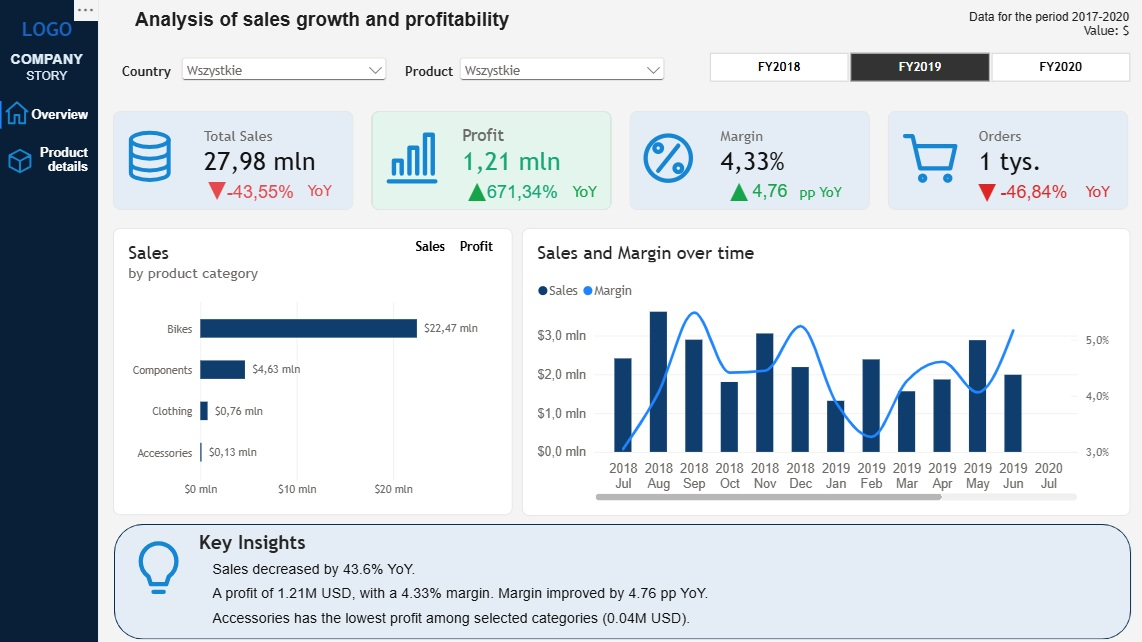

The dashboard page shown, as its layout file describes it:
{"tool":"powerbi","page":{"name":"Overview","canvas":[1280,720],"ordinal":0},"visuals":[{"type":"slicer","fields":{"Values":["Date.Year"]},"box":[772.9,60,507.1,35.7],"z":0},{"type":"lineStackedColumnComboChart","title":"Sales and Margin over time","fields":{"Category":["Date.Month"],"Y":["Sum(Sales.Sales)"],"Y2":["Sales.Profit Margin"]},"box":[585.7,257.1,675.7,320],"z":1000},{"type":"barChart","title":"Sales","fields":{"Category":["Product.Category"],"Y":["Sum(Obrót.Obrót)"]},"box":[131.4,257.1,444.3,318.6],"z":2000},{"type":"shape","box":[0,0,115,720],"z":3000},{"type":"textbox","box":[0,22.9,115.7,32.9],"z":4000},{"type":"textbox","box":[0,60,115,18.8],"z":5000},{"type":"textbox","box":[0,78.8,115,18.8],"z":6000},{"type":"cardVisual","title":"Total Sales","fields":{"Data":["Sales.Total Sales","Sales.Profit","Sales.Margin","Sales.Order"]},"box":[131.4,127.1,1130,110],"z":7000},{"type":"textbox","box":[140.9,73,60,18.3],"z":8000},{"type":"slicer","fields":{"Values":["Region.Country"]},"box":[202.5,61.9,238.5,38.5],"z":9000},{"type":"textbox","box":[455.2,73,60.9,18.3],"z":10000},{"type":"slicer","fields":{"Values":["Product.Category"]},"box":[511.2,61.9,238.3,34.4],"z":11000},{"type":"actionButton","title":"widok 1","box":[455.5,258.2,56.1,38.9],"z":13000},{"type":"actionButton","title":"widok 2","box":[510.9,258.2,47.5,38.8],"z":14000},{"type":"textbox","box":[155,13.8,512.5,25],"z":15000},{"type":"textbox","box":[1063.8,13.8,196.9,41.9],"z":16000},{"type":"shape","box":[131.7,585,1130,128.3],"z":17000},{"type":"textbox","box":[226.7,593.3,998.9,113.3],"z":18000},{"type":"image","box":[134.3,145.7,74.4,63.3],"z":19000},{"type":"image","box":[12.5,162.5,30.6,40],"z":20000},{"type":"image","box":[9.4,111.2,30.6,35],"z":21000},{"type":"image","box":[705.1,146,85.6,66.7],"z":22000},{"type":"image","box":[148,594,68,82],"z":23000},{"type":"image","box":[1005.7,142.9,66.7,71.7],"z":24000},{"type":"cardVisual","fields":{"Data":["Sales.Sales YoY Growth"]},"box":[257.5,195.6,98.8,40.6],"z":25000},{"type":"cardVisual","fields":{"Data":["Sales.YoY Label"]},"box":[330.6,195.6,66.9,40.6],"z":26000},{"type":"cardVisual","fields":{"Data":["Sales.Profit YoY Growth"]},"box":[546.2,195.6,97.5,41.7],"z":27000},{"type":"cardVisual","fields":{"Data":["Sales.YoY Label"]},"box":[625,196.2,60,40],"z":28000},{"type":"cardVisual","fields":{"Data":["Sales.Profit Trend Icon"]},"box":[505.6,196.2,57.5,41.2],"z":29000},{"type":"cardVisual","fields":{"Data":["Sales.Sales Trend Icon"]},"box":[216.2,195,57.5,41.2],"z":30000},{"type":"image","box":[419.4,144.6,88.9,68.9],"z":31000},{"type":"cardVisual","fields":{"Data":["Sales.Margin YoY Change"]},"box":[825,195.6,105.6,40.6],"z":32000},{"type":"cardVisual","fields":{"Data":["Sales.Margin Trend Icon"]},"box":[796.2,196.2,57.5,41.2],"z":33000},{"type":"cardVisual","fields":{"Data":["Sales.YoY Label pp"]},"box":[878.1,196.2,93.8,40],"z":34000},{"type":"cardVisual","fields":{"Data":["Sales.Order YoY Growth"]},"box":[1101.2,196.2,160,40],"z":35000},{"type":"cardVisual","fields":{"Data":["Sales.YoY Label"]},"box":[1195.6,196.2,60.6,40],"z":36000},{"type":"cardVisual","fields":{"Data":["Sales.Order Trend Icon"]},"box":[1072.5,200,57.5,37.5],"z":37000},{"type":"cardVisual","fields":{"Data":["Sales.Insight Sales"]},"box":[225.6,624.4,1030.9,24.5],"z":38000},{"type":"cardVisual","fields":{"Data":["Sales.Insight Profitability"]},"box":[225.6,648.9,1030,27.8],"z":39000},{"type":"cardVisual","fields":{"Data":["Sales.Insight Category"]},"box":[225.6,676.7,1018.9,27.8],"z":40000},{"type":"actionButton","box":[12.5,111.2,102.5,40],"z":41000},{"type":"actionButton","box":[12.8,157.8,101.7,47.8],"z":42000},{"type":"shape","box":[0,115.6,12.5,30.6],"z":43000}]}

Visuals, with their boxes on the page's 1280x720 design canvas (x1, y1, x2, y2). These are canvas units, not pixel positions in the 1142x642 screenshot, which may show the page scaled, cropped or inside an application window:
slicer - Date.Year: [left=773, top=60, right=1280, bottom=96]
"Sales and Margin over time" lineStackedColumnComboChart: [left=586, top=257, right=1261, bottom=577]
"Sales" barChart: [left=131, top=257, right=576, bottom=576]
shape: [left=0, top=0, right=115, bottom=720]
textbox: [left=0, top=23, right=116, bottom=56]
textbox: [left=0, top=60, right=115, bottom=79]
textbox: [left=0, top=79, right=115, bottom=98]
"Total Sales" cardVisual: [left=131, top=127, right=1261, bottom=237]
textbox: [left=141, top=73, right=201, bottom=91]
slicer - Region.Country: [left=202, top=62, right=441, bottom=100]
textbox: [left=455, top=73, right=516, bottom=91]
slicer - Product.Category: [left=511, top=62, right=750, bottom=96]
"widok 1" actionButton: [left=456, top=258, right=512, bottom=297]
"widok 2" actionButton: [left=511, top=258, right=558, bottom=297]
textbox: [left=155, top=14, right=668, bottom=39]
textbox: [left=1064, top=14, right=1261, bottom=56]
shape: [left=132, top=585, right=1262, bottom=713]
textbox: [left=227, top=593, right=1226, bottom=707]
image: [left=134, top=146, right=209, bottom=209]
image: [left=12, top=162, right=43, bottom=202]
image: [left=9, top=111, right=40, bottom=146]
image: [left=705, top=146, right=791, bottom=213]
image: [left=148, top=594, right=216, bottom=676]
image: [left=1006, top=143, right=1072, bottom=215]
cardVisual - Sales.Sales YoY Growth: [left=258, top=196, right=356, bottom=236]
cardVisual - Sales.YoY Label: [left=331, top=196, right=398, bottom=236]
cardVisual - Sales.Profit YoY Growth: [left=546, top=196, right=644, bottom=237]
cardVisual - Sales.YoY Label: [left=625, top=196, right=685, bottom=236]
cardVisual - Sales.Profit Trend Icon: [left=506, top=196, right=563, bottom=237]
cardVisual - Sales.Sales Trend Icon: [left=216, top=195, right=274, bottom=236]
image: [left=419, top=145, right=508, bottom=214]
cardVisual - Sales.Margin YoY Change: [left=825, top=196, right=931, bottom=236]
cardVisual - Sales.Margin Trend Icon: [left=796, top=196, right=854, bottom=237]
cardVisual - Sales.YoY Label pp: [left=878, top=196, right=972, bottom=236]
cardVisual - Sales.Order YoY Growth: [left=1101, top=196, right=1261, bottom=236]
cardVisual - Sales.YoY Label: [left=1196, top=196, right=1256, bottom=236]
cardVisual - Sales.Order Trend Icon: [left=1072, top=200, right=1130, bottom=238]
cardVisual - Sales.Insight Sales: [left=226, top=624, right=1256, bottom=649]
cardVisual - Sales.Insight Profitability: [left=226, top=649, right=1256, bottom=677]
cardVisual - Sales.Insight Category: [left=226, top=677, right=1244, bottom=704]
actionButton: [left=12, top=111, right=115, bottom=151]
actionButton: [left=13, top=158, right=114, bottom=206]
shape: [left=0, top=116, right=12, bottom=146]
